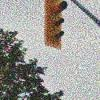traffic lights: (45, 1, 68, 52)
